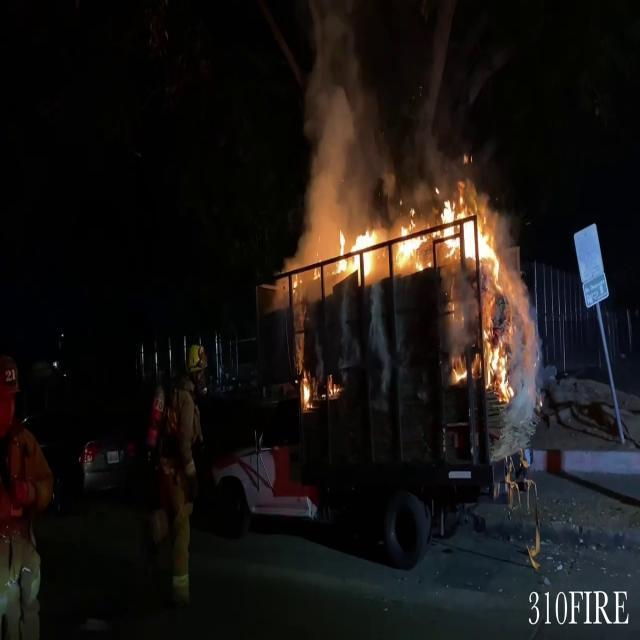Fire: (438, 183, 520, 400), (333, 214, 422, 284), (297, 367, 312, 413)
Smoke: (284, 4, 420, 274)
